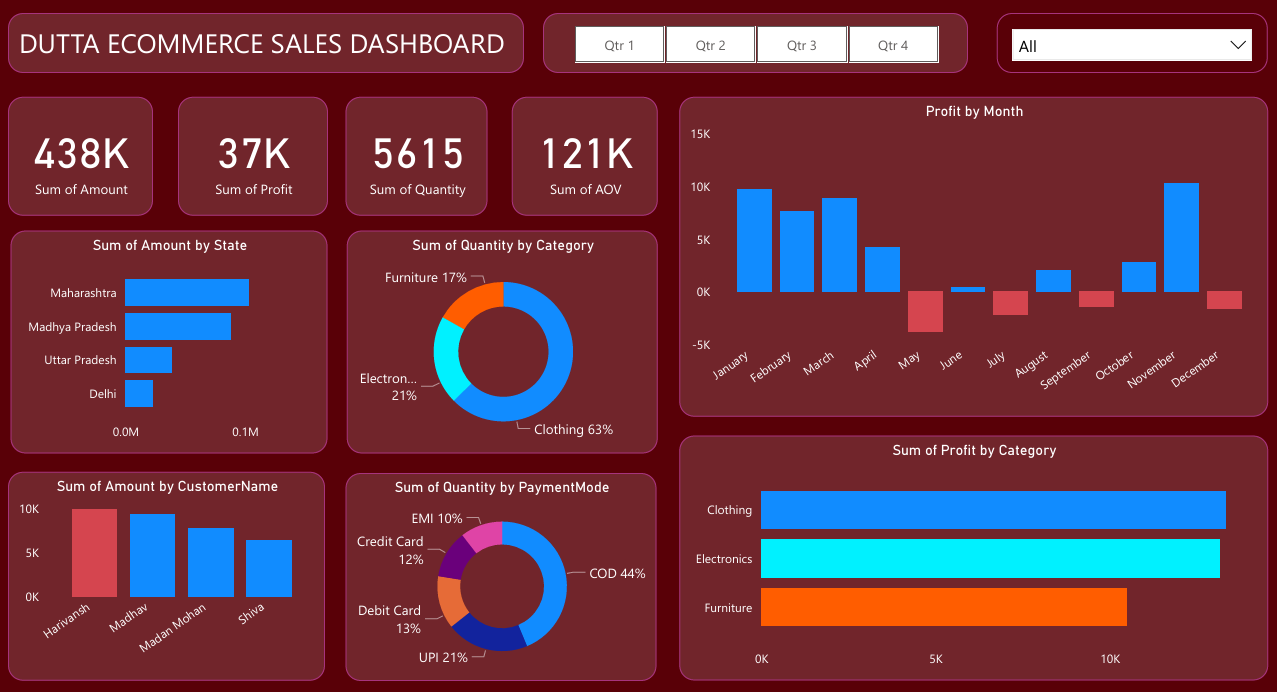

Layout of this report page (visuals, bound fields, positions):
{"tool":"powerbi","page":{"name":"Page 1","canvas":[1280,720],"ordinal":0},"visuals":[{"type":"textbox","box":[9.7,30.2,516.4,60.3],"z":0},{"type":"columnChart","title":"Profit by Month","fields":{"Category":["Orders.Order Date.Variation.Date Hierarchy.Month"],"Y":["Details.Profit"]},"box":[681.6,113.4,588.7,319.7],"z":1000},{"type":"barChart","fields":{"Category":["Details.Category"],"Y":["Details.Profit"]},"box":[681.6,452.4,588.7,244.9],"z":2000},{"type":"donutChart","fields":{"Category":["Details.Category"],"Y":["Details.Quantity"]},"box":[348.7,247.3,311.3,223.2],"z":3000},{"type":"donutChart","fields":{"Category":["Details.PaymentMode"],"Y":["Details.Quantity"]},"box":[347.5,489.8,311.3,207.5],"z":4000},{"type":"card","fields":{"Values":["Details.Amount"]},"box":[9.7,113.4,144.8,119.4],"z":5000},{"type":"card","fields":{"Values":["Details.Quantity"]},"box":[347.5,113.4,142.4,119.4],"z":6000},{"type":"card","fields":{"Values":["Details.Profit"]},"box":[179.8,113.4,149.6,119.4],"z":7000},{"type":"card","fields":{"Values":["Details.AOV"]},"box":[513.9,113.4,146,119.4],"z":8000},{"type":"barChart","fields":{"Category":["Orders.State"],"Y":["Details.Amount"]},"box":[12.1,247.3,317.3,223.2],"z":9000},{"type":"columnChart","fields":{"Category":["Orders.CustomerName"],"Y":["Details.Amount"]},"box":[9.7,488.6,317.3,208.7],"z":10000},{"type":"slicer","fields":{"Values":["Orders.Order Date.Variation.Date Hierarchy.Quarter"]},"box":[545.3,30.2,424.7,60.3],"z":11000},{"type":"slicer","fields":{"Values":["Orders.State"]},"box":[998.9,30.2,271.4,60.3],"z":12000}]}

Visuals, with their boxes on the page's 1280x720 design canvas (x1, y1, x2, y2). These are canvas units, not pixel positions in the 1277x692 screenshot, which may show the page scaled, cropped or inside an application window:
textbox: crop(10, 30, 526, 90)
"Profit by Month" columnChart: crop(682, 113, 1270, 433)
barChart - Details.Category x Details.Profit: crop(682, 452, 1270, 697)
donutChart - Details.Category x Details.Quantity: crop(349, 247, 660, 470)
donutChart - Details.PaymentMode x Details.Quantity: crop(348, 490, 659, 697)
card - Details.Amount: crop(10, 113, 154, 233)
card - Details.Quantity: crop(348, 113, 490, 233)
card - Details.Profit: crop(180, 113, 329, 233)
card - Details.AOV: crop(514, 113, 660, 233)
barChart - Orders.State x Details.Amount: crop(12, 247, 329, 470)
columnChart - Orders.CustomerName x Details.Amount: crop(10, 489, 327, 697)
slicer - Orders.Order Date.Variation.Date Hierarchy.Quarter: crop(545, 30, 970, 90)
slicer - Orders.State: crop(999, 30, 1270, 90)
